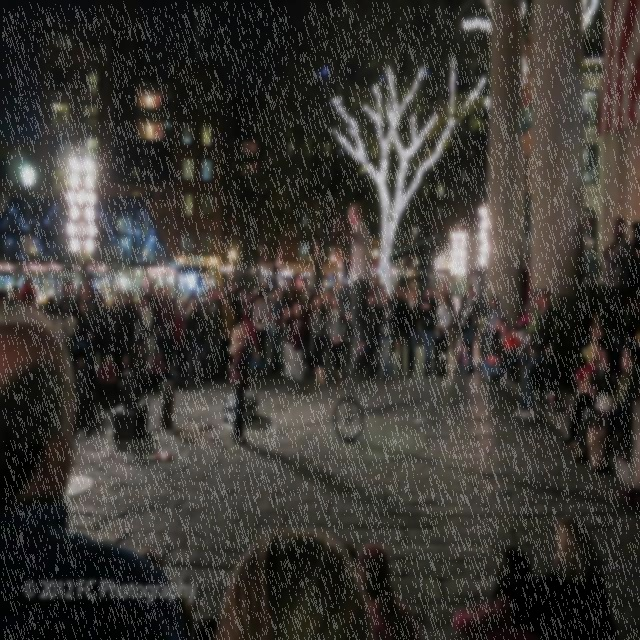pessoa: (91, 524, 420, 640), (451, 542, 548, 640), (554, 514, 617, 640), (334, 202, 376, 370), (566, 342, 620, 458), (593, 343, 640, 474), (557, 334, 606, 450), (512, 288, 555, 420), (525, 286, 560, 410), (600, 215, 632, 338), (0, 270, 57, 321), (572, 312, 606, 396), (228, 322, 250, 444), (431, 278, 456, 374), (454, 284, 480, 375), (476, 294, 506, 368), (480, 318, 510, 386), (202, 286, 224, 378), (326, 294, 348, 386), (308, 293, 329, 387), (360, 288, 380, 384), (388, 286, 408, 376), (419, 284, 437, 378), (402, 286, 420, 379), (172, 272, 208, 318), (627, 219, 640, 342), (186, 296, 204, 382), (289, 301, 307, 386), (252, 289, 271, 368), (118, 289, 136, 372), (435, 292, 452, 378), (266, 287, 284, 367), (378, 292, 394, 382), (100, 276, 144, 308), (152, 270, 171, 342), (516, 304, 533, 376), (626, 424, 640, 508), (240, 302, 257, 370), (222, 294, 236, 369), (281, 306, 295, 381), (136, 292, 155, 347), (96, 292, 112, 357), (503, 324, 522, 378), (304, 292, 316, 376), (78, 298, 98, 346), (170, 306, 184, 368), (95, 348, 118, 384), (144, 280, 158, 332), (133, 341, 149, 382), (75, 282, 92, 318), (324, 288, 332, 364), (242, 284, 269, 306), (86, 270, 100, 312), (450, 289, 460, 347), (150, 346, 168, 378), (58, 278, 76, 310), (456, 344, 474, 376), (344, 311, 354, 368), (522, 252, 531, 314), (478, 289, 488, 339), (491, 314, 504, 352), (232, 288, 244, 326), (290, 276, 306, 304), (121, 354, 135, 382), (242, 292, 256, 318), (56, 302, 75, 320), (225, 280, 238, 306), (378, 282, 390, 310), (110, 300, 121, 328), (250, 348, 264, 370), (284, 288, 295, 316), (280, 276, 290, 304), (392, 285, 409, 300), (112, 288, 125, 307), (299, 288, 307, 307), (214, 284, 222, 302), (225, 277, 233, 294), (310, 288, 322, 298), (170, 296, 178, 308), (74, 282, 80, 296), (434, 288, 439, 299)
